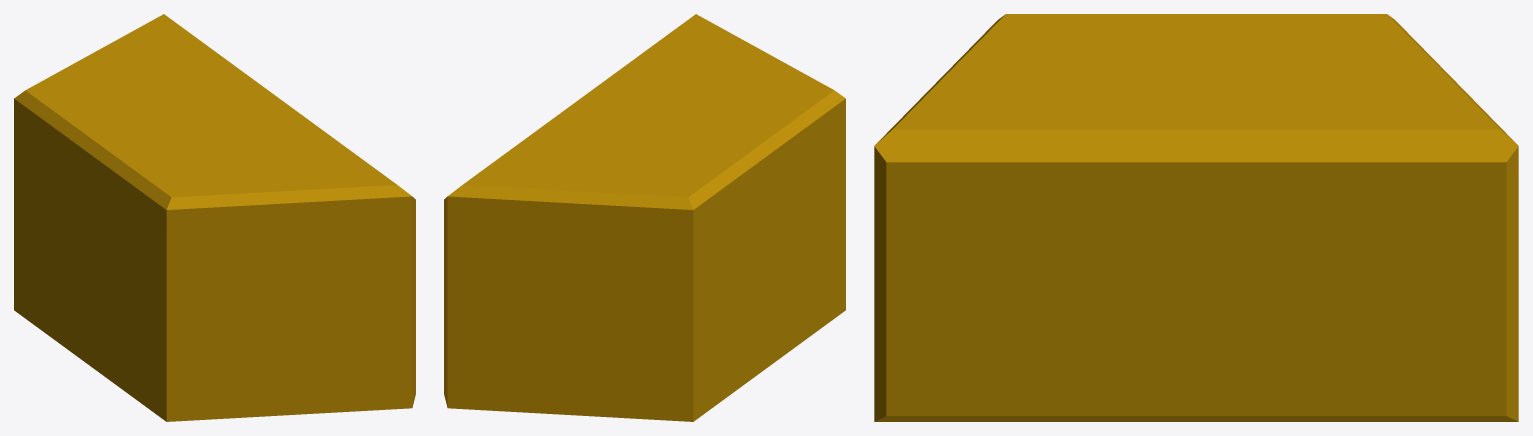
Rendered from 1_8thTab.fbx.
The picture shows the model from 3 angles, left to right: view 1: azimuth 30°, elevation 25°; view 2: azimuth 150°, elevation 25°; view 3: azimuth 270°, elevation 25°; orthographic projection. The views are drawn at different scales.
Visible parts, largest first — view 1: Empty_Mesh; view 2: Empty_Mesh; view 3: Empty_Mesh.
Boxes of the visible parts, left/top/right/bottom form: Empty_Mesh: left=14, top=14, right=415, bottom=421; Empty_Mesh: left=444, top=14, right=845, bottom=421; Empty_Mesh: left=874, top=14, right=1518, bottom=421.
Bounding box in the file's own units: 1.3 × 1.32 × 2.69.
